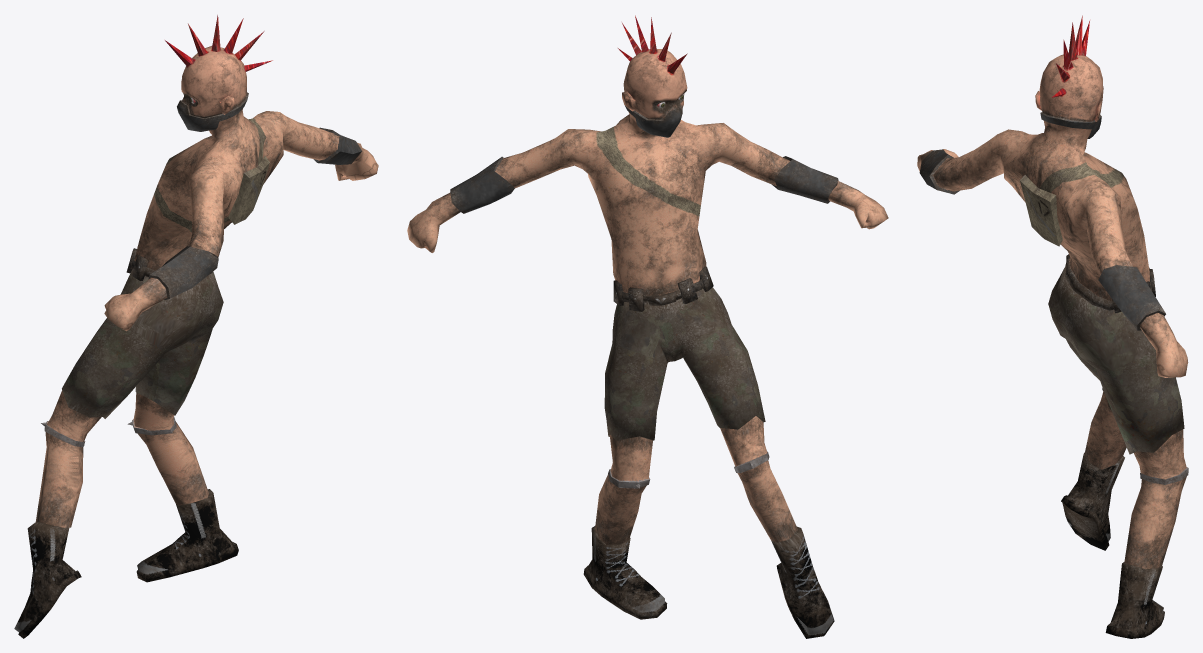
Rendered from Anim_ataque_f3_npc2.0035.obj.
The picture shows the model from 3 angles, left to right: view 1: azimuth 30°, elevation 25°; view 2: azimuth 150°, elevation 25°; view 3: azimuth 270°, elevation 25°; orthographic projection. The views are drawn at different scales.
Parts seen in each view (by area): view 1: polySurface1; view 2: polySurface1; view 3: polySurface1.
Boxes of the visible parts, left/top/right/bottom form: polySurface1: left=14, top=15, right=378, bottom=638; polySurface1: left=407, top=15, right=888, bottom=638; polySurface1: left=917, top=15, right=1188, bottom=638.
Size of the model in its own units: 7.11 by 10.02 by 3.97.
2 materials, 2 textured.
